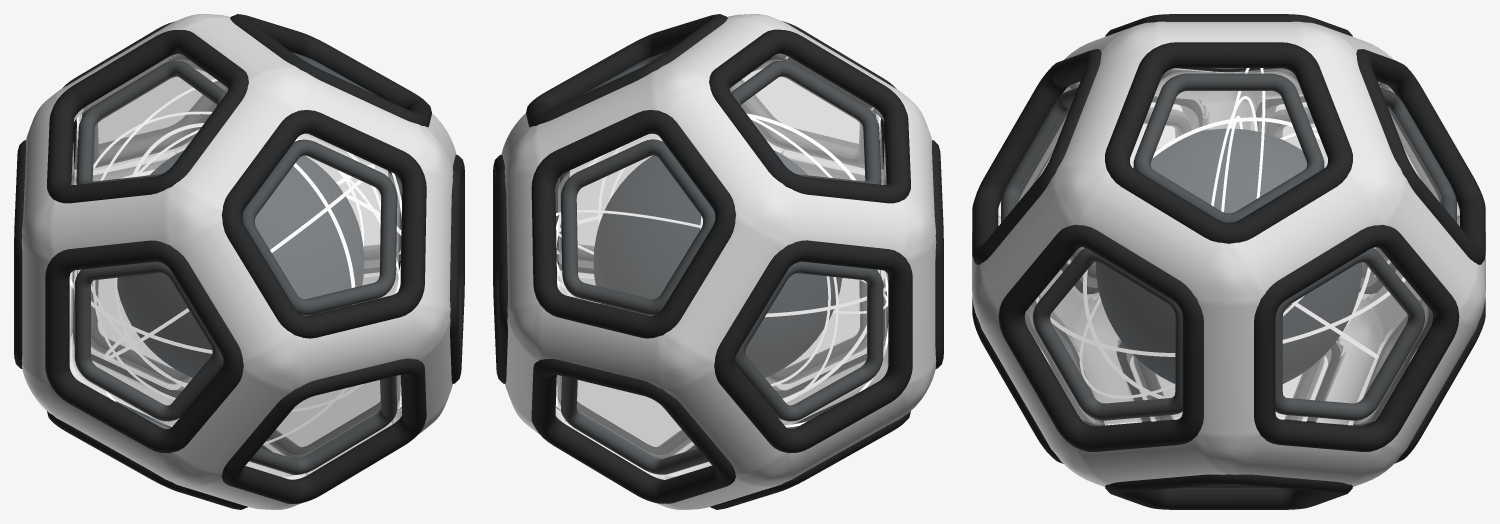
File: fusion-core.glb
The picture shows the model from 3 angles, left to right: view 1: azimuth 30°, elevation 25°; view 2: azimuth 150°, elevation 25°; view 3: azimuth 270°, elevation 25°; orthographic projection. The views are drawn at different scales.
Visible parts, largest first — view 1: Shell, Gasket, Windows, InnerGasket, Void, Energy; view 2: Shell, Gasket, Windows, InnerGasket, Void, Energy; view 3: Shell, Gasket, Windows, InnerGasket, Void, Energy.
Part boxes in pixels (x1,y1,x2,y2): Shell: (21,14,456,509); Gasket: (14,14,464,509); Windows: (72,55,401,473); InnerGasket: (74,52,402,474); Void: (117,150,364,377); Energy: (69,79,401,444); Shell: (501,14,936,509); Gasket: (493,14,943,509); Windows: (555,55,885,472); InnerGasket: (555,52,883,474); Void: (593,150,842,377); Energy: (556,113,888,427); Shell: (972,21,1485,486); Gasket: (972,14,1485,509); Windows: (1016,68,1441,425); InnerGasket: (1001,68,1456,488); Void: (1095,128,1362,383); Energy: (1035,68,1405,398).
Bounding box in the file's own units: 1.77 × 1.77 × 1.77.
4 materials, 4 textured.
